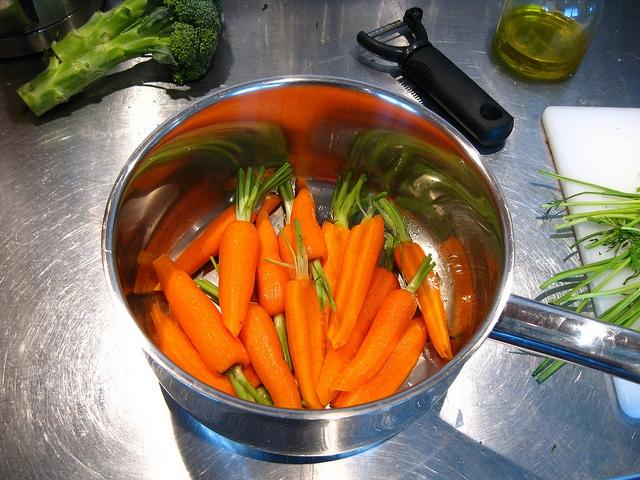broccoli: (13, 0, 222, 119)
carrot: (328, 252, 436, 392), (374, 198, 454, 360), (134, 172, 237, 296), (394, 196, 474, 355), (152, 254, 250, 378), (316, 267, 400, 406), (321, 171, 387, 327), (278, 218, 326, 410), (329, 316, 428, 408), (153, 203, 257, 290), (218, 164, 268, 338), (328, 202, 386, 350), (150, 302, 237, 397), (238, 302, 302, 408), (254, 208, 294, 372), (290, 177, 337, 311), (277, 223, 295, 280), (243, 364, 262, 388)
